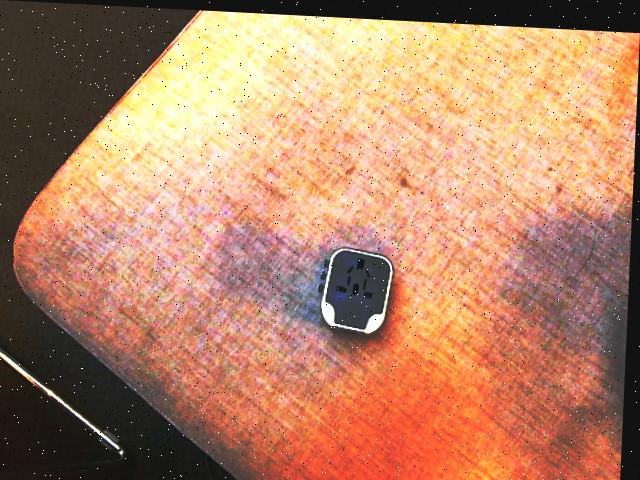adapter: (319, 242, 396, 332)
